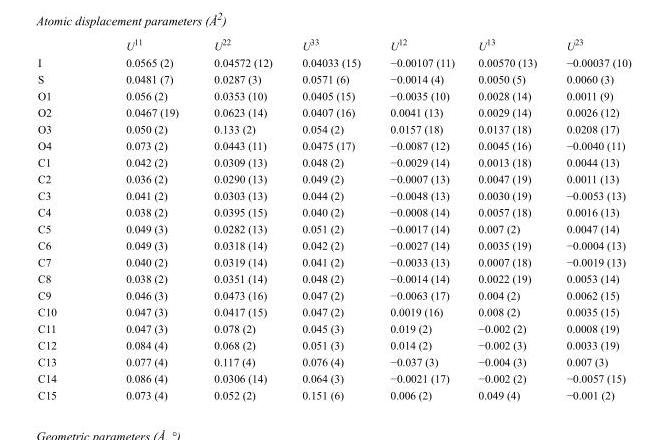table: (37, 36, 630, 400)
table column: (90, 36, 195, 400), (195, 36, 286, 400), (374, 36, 465, 400), (286, 36, 374, 400), (465, 36, 550, 400), (550, 36, 630, 400), (37, 36, 90, 400)
table column header: (37, 36, 630, 53)
table row: (37, 36, 630, 53), (37, 53, 630, 70), (37, 70, 630, 87), (37, 103, 630, 120), (37, 136, 630, 153), (37, 153, 630, 170), (37, 186, 630, 203), (37, 203, 630, 220), (37, 236, 630, 253), (37, 269, 630, 286), (37, 286, 630, 303), (37, 319, 630, 336), (37, 336, 630, 353), (37, 369, 630, 386), (37, 87, 630, 103), (37, 120, 630, 136), (37, 170, 630, 186), (37, 220, 630, 236), (37, 253, 630, 269), (37, 303, 630, 319), (37, 353, 630, 369), (37, 386, 630, 400)
